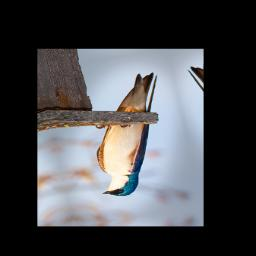Swallow: (76, 70, 184, 200)
